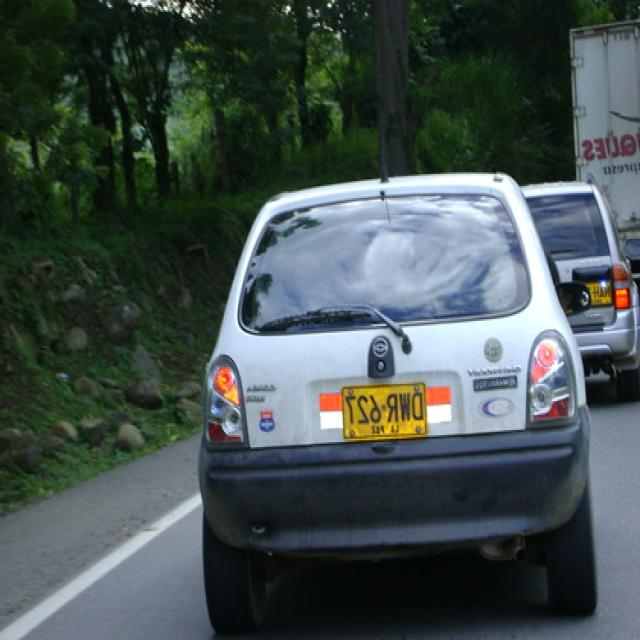placas: (341, 387, 425, 424), (586, 284, 610, 298)
